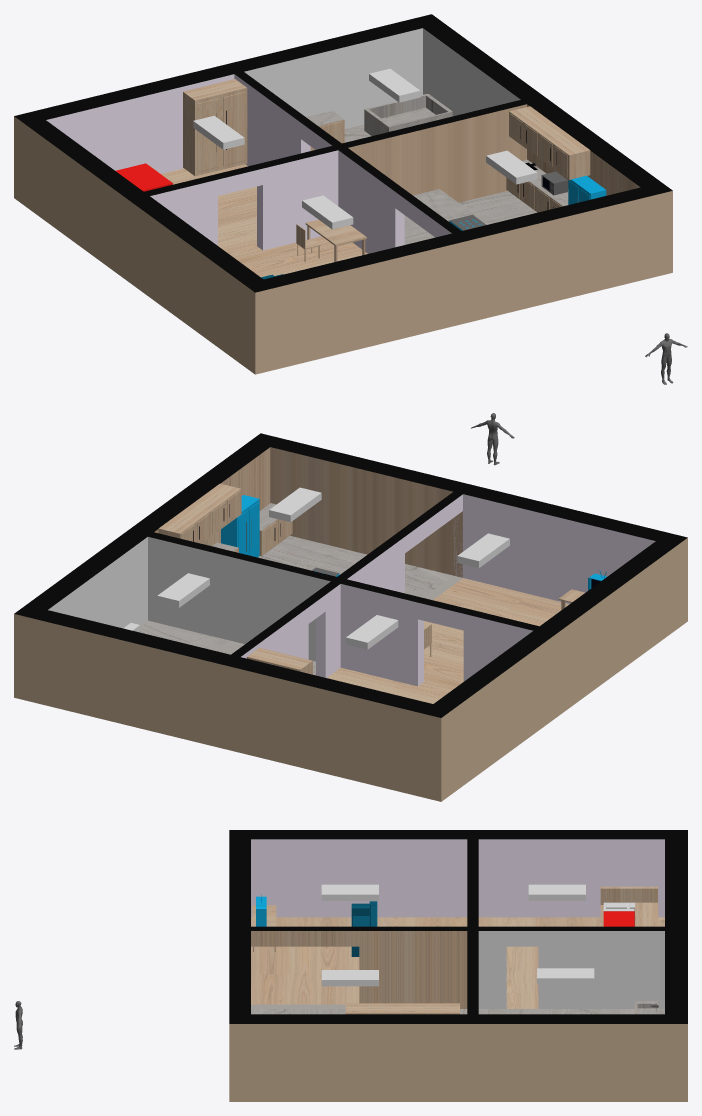
Rendered from casa.glb.
3 renders of one model, top to bottom at view 1: azimuth 30°, elevation 25°; view 2: azimuth 150°, elevation 25°; view 3: azimuth 270°, elevation 25°, orthographic. The views are drawn at different scales.
Parts seen in each view (by area): view 1: Plane, ArmarioQuarto, BanheiraBanheiro, ArmarioCozinha2, AmarioCozinha1, LuzTetoBanheiro, LuzTetoCozinha, LuzTetoSala, LuzTetoQuarto, MesaJantarSala, MesaCozinha, CamaQuarto (+4 smaller); view 2: Plane, GeladeiraCozinha, ArmarioCozinha2, AmarioCozinha1, LuzTetoBanheiro, LuzTetoCozinha, LuzTetoQuarto, LuzTetoSala, AmarioCozinha3.001, ArmarioQuarto; view 3: Plane, CamaQuarto, LuzTetoBanheiro, LuzTetoCozinha, LuzTetoQuarto, LuzTetoSala, SofaSala, AmarioCozinha1, ArmarioCozinha2, ArmarioQuarto.
Part boxes in pixels (box(x1,y1,x2,y2)): Plane: box(14, 14, 672, 374); ArmarioQuarto: box(183, 79, 247, 176); BanheiraBanheiro: box(364, 94, 452, 135); ArmarioCozinha2: box(539, 128, 590, 180); AmarioCozinha1: box(509, 106, 559, 157); LuzTetoBanheiro: box(369, 68, 420, 102); LuzTetoCozinha: box(486, 150, 537, 184); LuzTetoSala: box(302, 195, 353, 229); LuzTetoQuarto: box(193, 115, 244, 149); MesaJantarSala: box(305, 219, 366, 261); MesaCozinha: box(413, 189, 474, 221); CamaQuarto: box(115, 163, 174, 191); Plane: box(14, 433, 687, 801); GeladeiraCozinha: box(221, 495, 259, 557); ArmarioCozinha2: box(190, 483, 241, 536); AmarioCozinha1: box(158, 506, 210, 543); LuzTetoBanheiro: box(157, 573, 209, 607); LuzTetoCozinha: box(269, 487, 321, 522); LuzTetoQuarto: box(346, 615, 398, 649); LuzTetoSala: box(457, 533, 509, 567); AmarioCozinha3.001: box(259, 503, 292, 556); ArmarioQuarto: box(247, 647, 312, 674); Plane: box(229, 830, 687, 1101); CamaQuarto: box(600, 886, 657, 926); LuzTetoBanheiro: box(537, 968, 594, 984); LuzTetoCozinha: box(321, 970, 378, 986); LuzTetoQuarto: box(528, 884, 585, 900); LuzTetoSala: box(321, 884, 378, 900); SofaSala: box(351, 901, 377, 956); AmarioCozinha1: box(402, 1003, 459, 1014); ArmarioCozinha2: box(345, 1003, 402, 1014); ArmarioQuarto: box(634, 902, 658, 926).
Bounding box in the file's own units: 16 × 3.19 × 23.51.
Materials: 12 (3 with a texture image).
